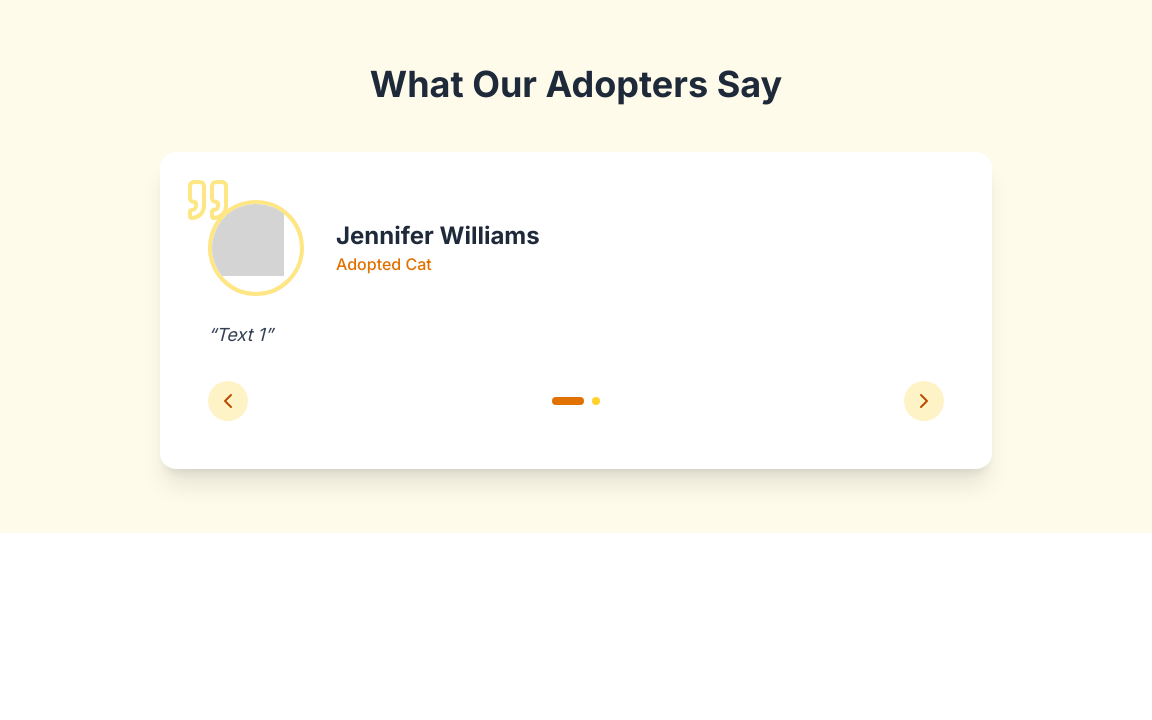
TestimonialsCarousel › with Data › navigates to the next testimonial on button click
Step 1. Click the button named "Next testimonial" → [924, 401], box [904,381,944,421]
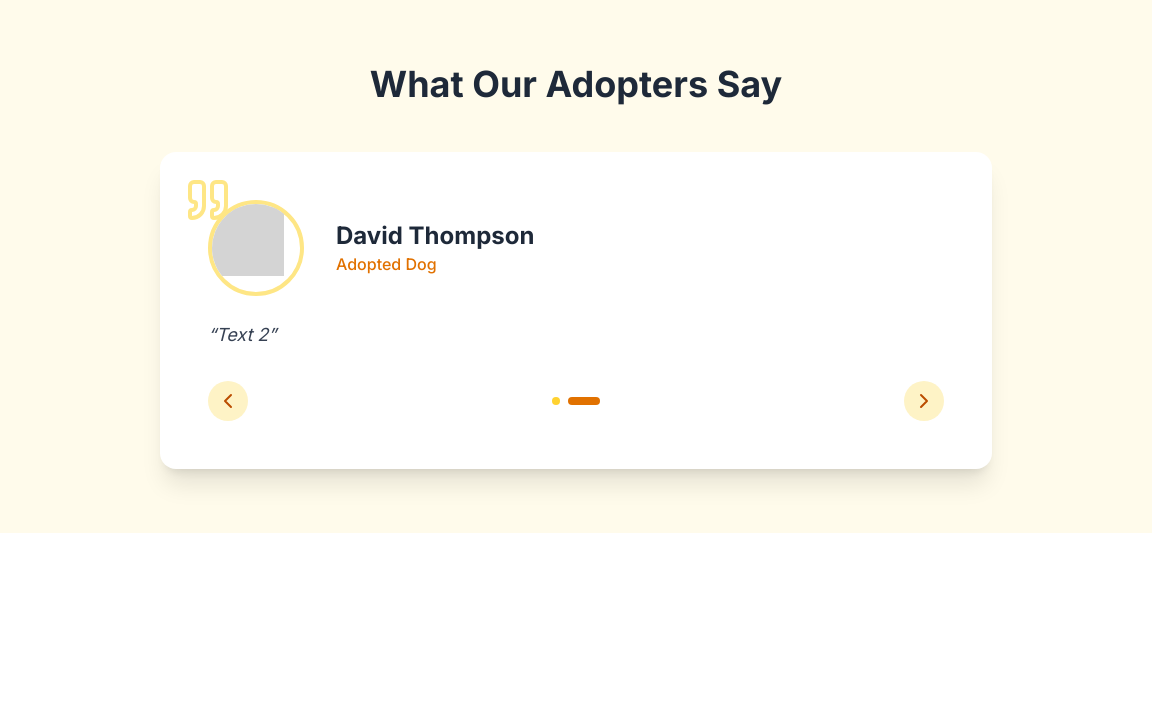
Expected: the heading "David Thompson" is shown, [336,220,534,252]
